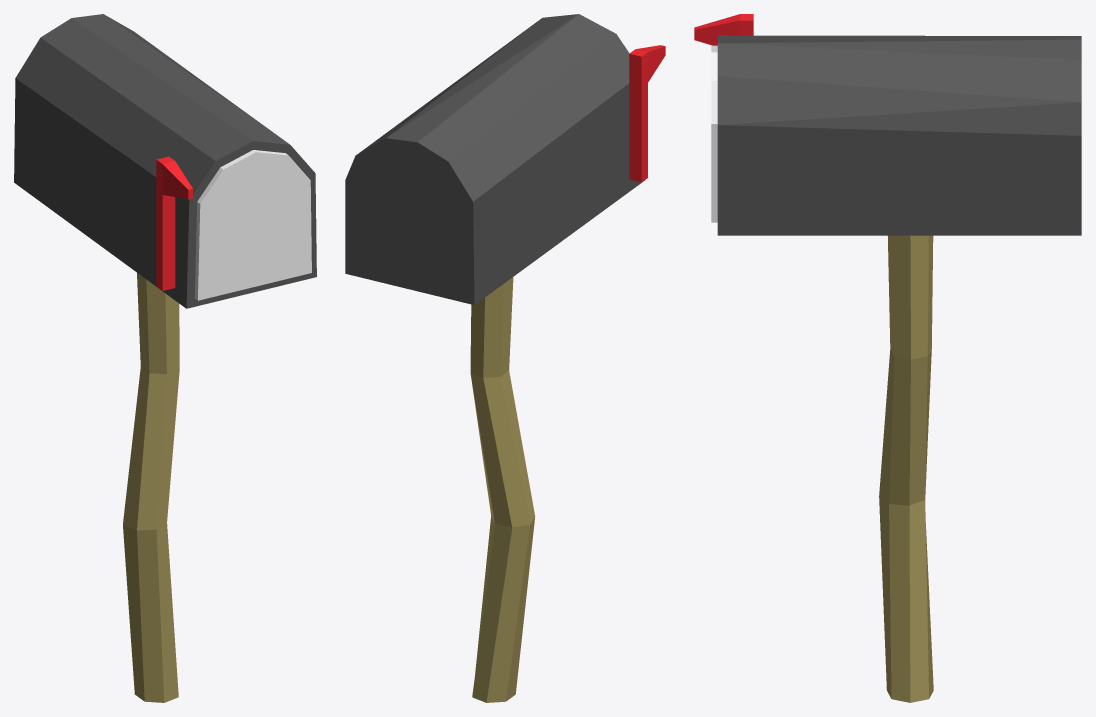
The model's file is mailbox01.fbx.
3 renders of one model, left to right at view 1: azimuth 30°, elevation 25°; view 2: azimuth 150°, elevation 25°; view 3: azimuth 270°, elevation 25°, orthographic. The views are drawn at different scales.
Parts seen in each view (by area): view 1: Cube.011; view 2: Cube.011; view 3: Cube.011.
Boxes of the visible parts, x1,y1,x2,y2 form: Cube.011: [14, 14, 316, 702]; Cube.011: [345, 14, 665, 702]; Cube.011: [694, 14, 1081, 702].
Size of the model in its own units: 0.2976 by 1.22 by 0.6588.
